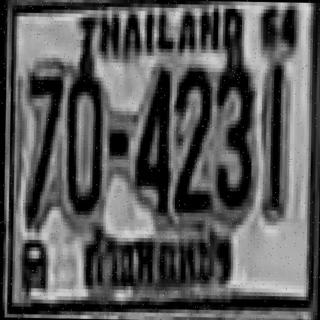N00: (64, 68, 102, 213)
N01: (261, 61, 287, 218)
N02: (172, 65, 210, 211)
N03: (212, 60, 253, 206)
N04: (132, 65, 170, 210)
N07: (24, 70, 62, 220)
P16: (78, 224, 238, 294)
